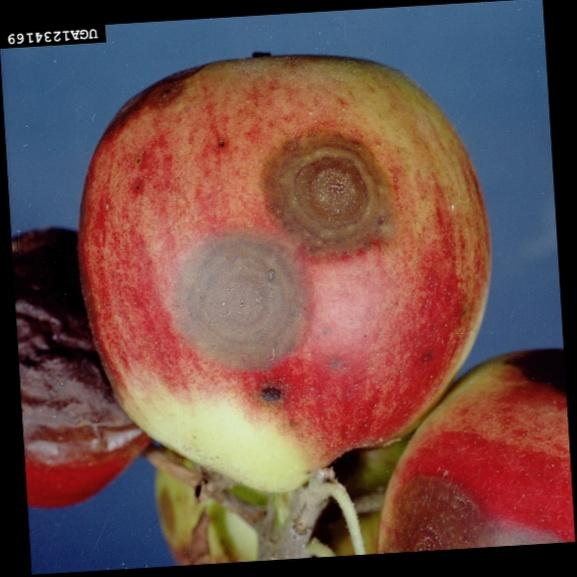rotten apple: (78, 50, 494, 483), (19, 219, 152, 517), (377, 353, 569, 547)
